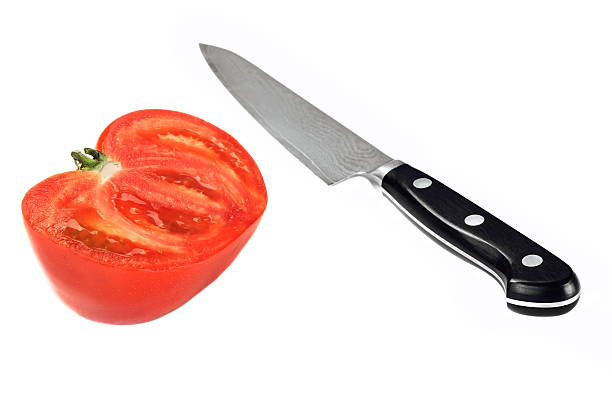knife: (197, 42, 583, 319)
